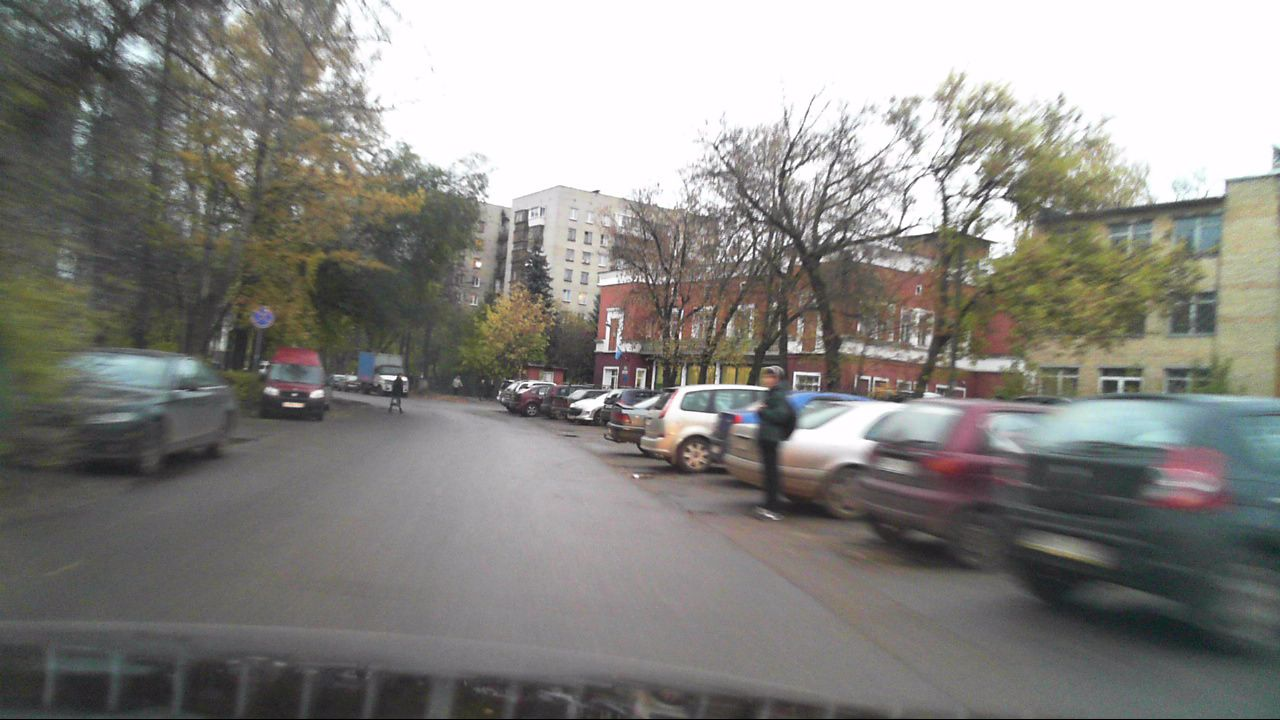No Parking: (249, 305, 274, 329)
